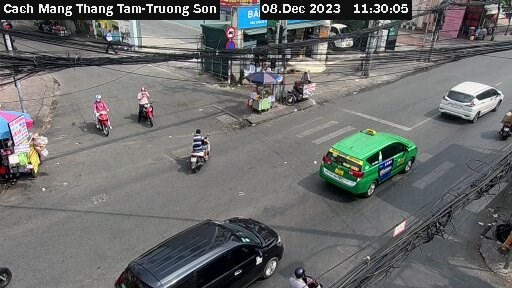car: (115, 205, 287, 286), (318, 126, 421, 196), (437, 69, 503, 128)
motorbike: (181, 130, 222, 177), (136, 84, 173, 129), (84, 94, 120, 137), (498, 110, 512, 139)
